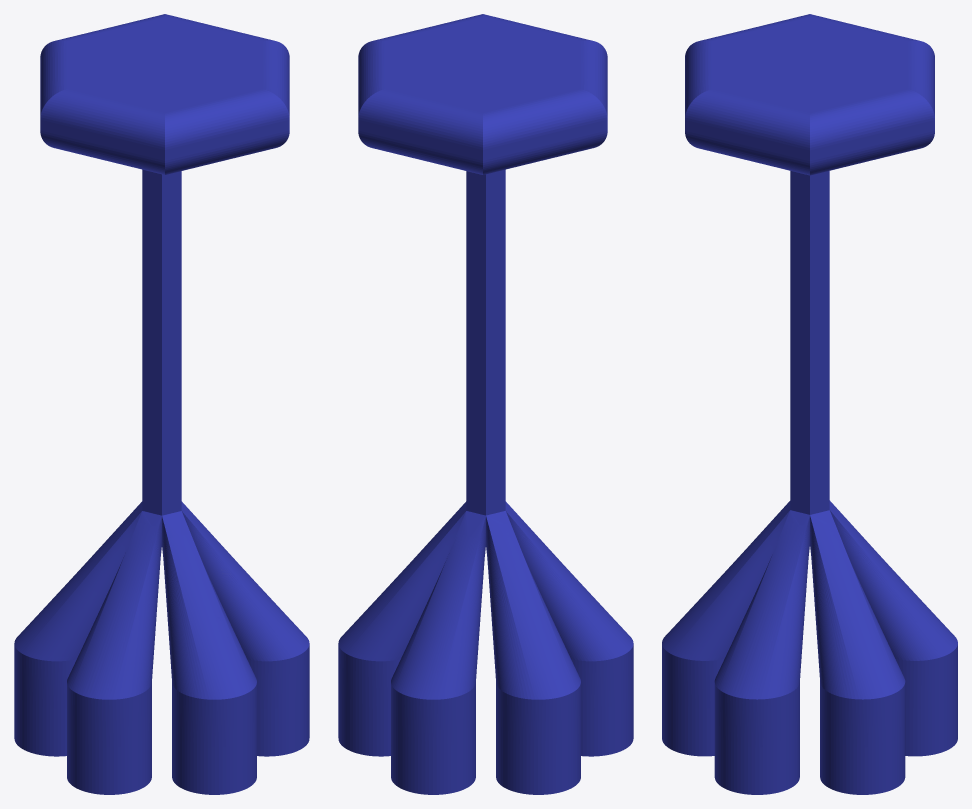
The model's file is mochidonutplunger.glb.
3 views of the same model, side by side, from view 1: azimuth 30°, elevation 25°; view 2: azimuth 150°, elevation 25°; view 3: azimuth 270°, elevation 25° (orthographic).
Visible parts, largest first — view 1: node_id3; view 2: node_id3; view 3: node_id3.
Part boxes in pixels (left/top/right/bottom): node_id3: left=14, top=14, right=309, bottom=794; node_id3: left=338, top=14, right=633, bottom=794; node_id3: left=662, top=14, right=957, bottom=794.
Size of the model in its own units: 0.1988 by 0.512 by 0.2036.
Materials: 1 (1 with a texture image).
